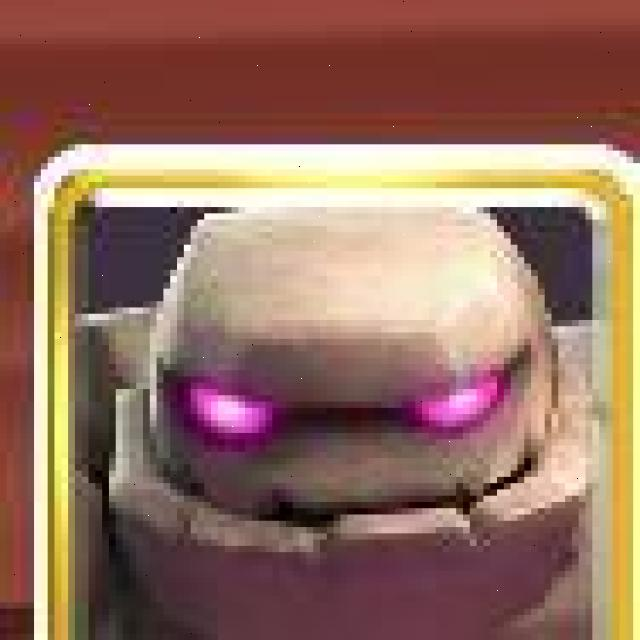Golem: (30, 140, 640, 640)
